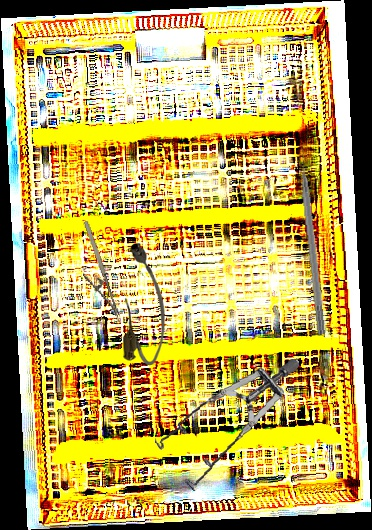Cannula: (123, 243, 165, 365)
Needle Holder: (68, 219, 121, 326)
Pusher: (297, 143, 328, 336)
Speculum: (147, 358, 313, 495)
